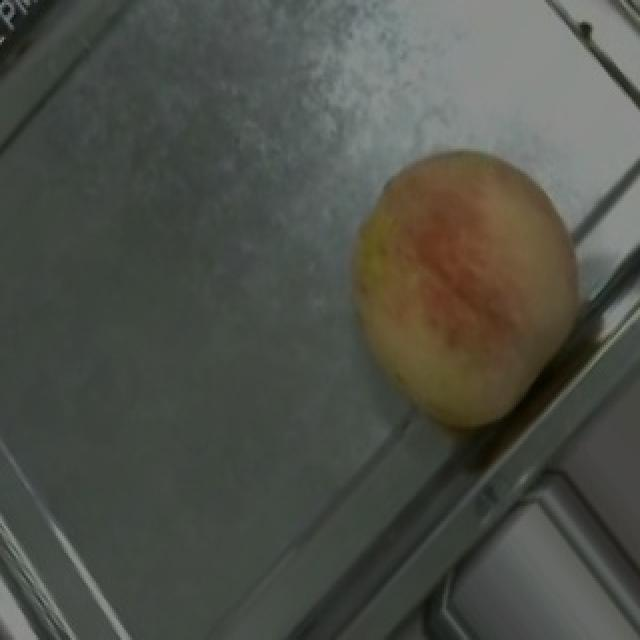Fruit: (304, 107, 630, 471)
